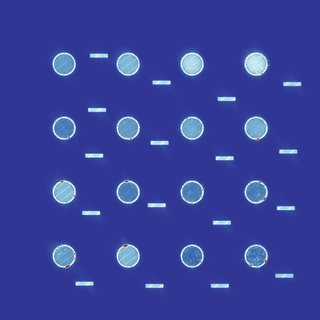overheated: (259, 51, 268, 62), (247, 262, 260, 269), (56, 245, 76, 249), (122, 179, 131, 184), (201, 184, 204, 199), (265, 254, 269, 263), (261, 196, 267, 202), (59, 179, 66, 184), (62, 264, 72, 267), (247, 245, 257, 248), (256, 136, 262, 141), (73, 188, 76, 197), (125, 137, 133, 140), (258, 180, 264, 184), (73, 253, 76, 260), (264, 65, 268, 70), (122, 244, 128, 247), (189, 201, 195, 204), (199, 259, 203, 263), (260, 71, 264, 75), (55, 119, 58, 123), (74, 125, 76, 131), (67, 136, 70, 139), (56, 135, 59, 137), (249, 181, 251, 184)
